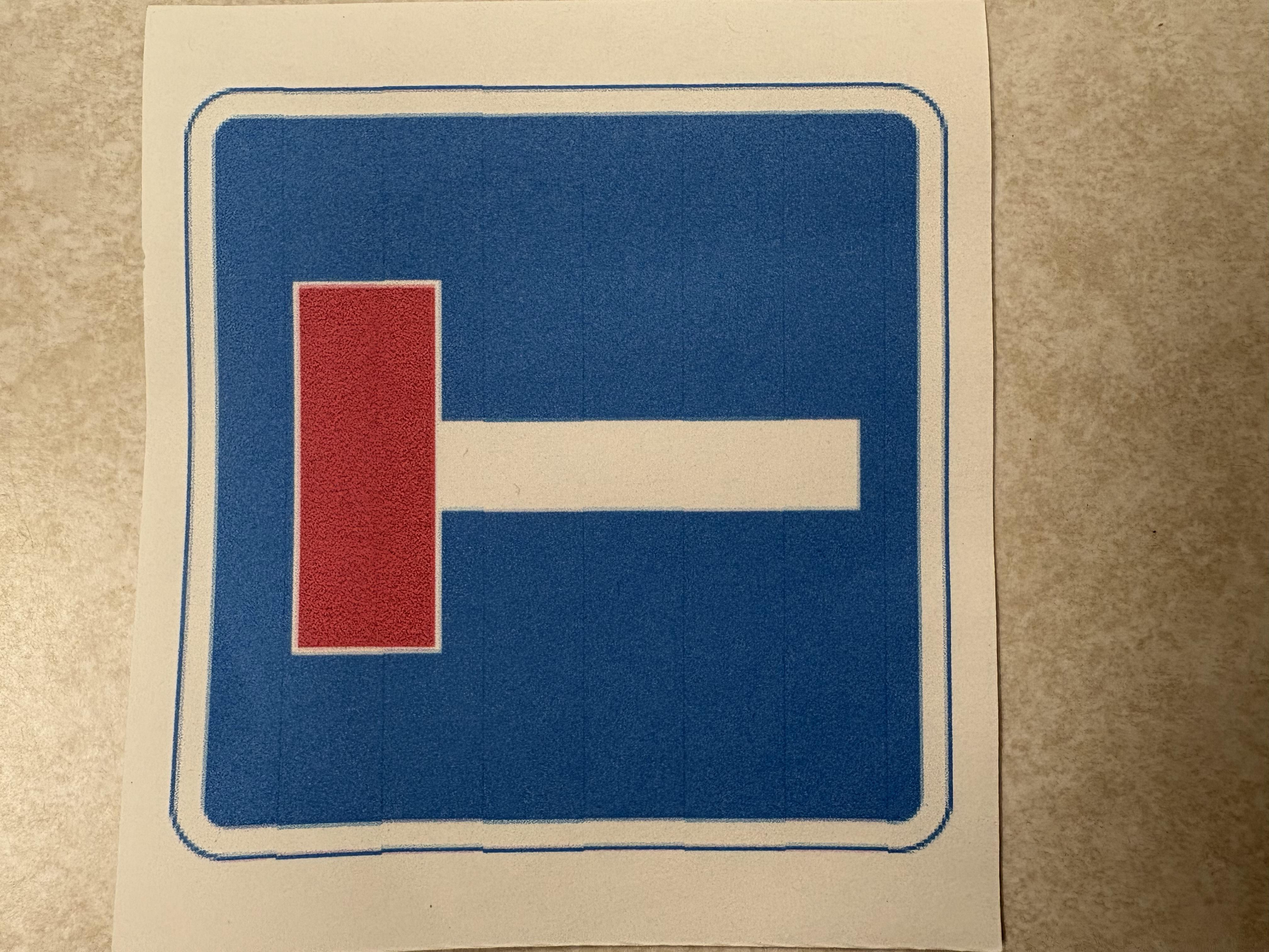Dead End: (113, 7, 998, 952)
